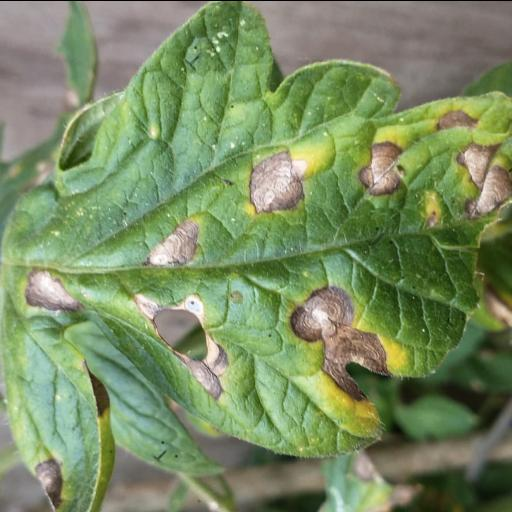disease_tomato: (0, 0, 512, 510)
